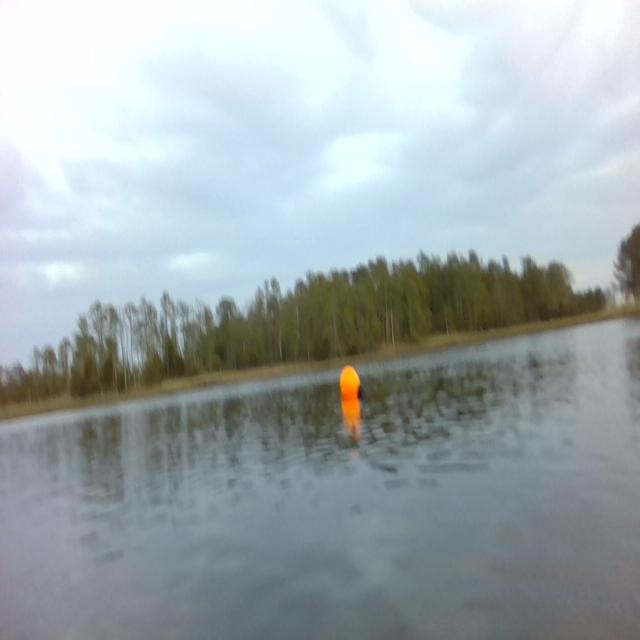Buoy: (338, 359, 368, 409)
